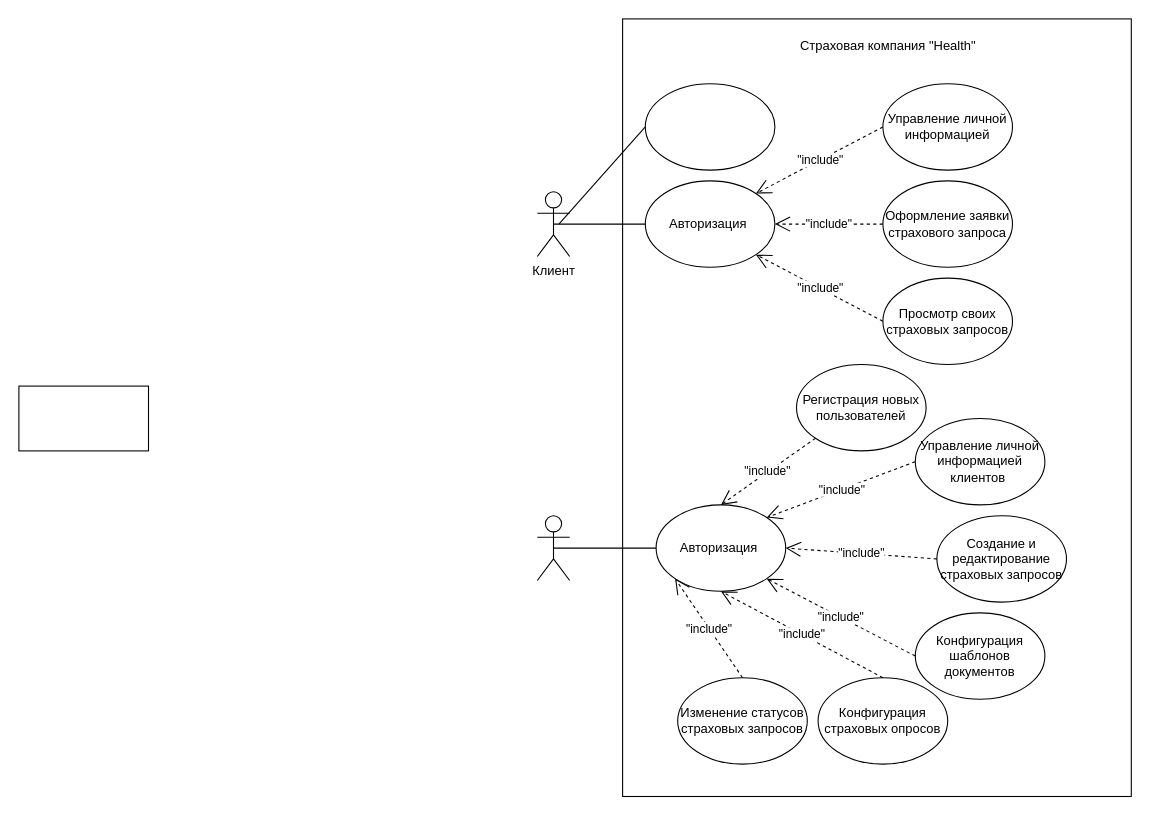
The diagram is 1150 pixels wide and 815 high, and some of its shapes have lost their labels. Each missing label, with the centre of its shape:
"Агент" belongs at pixel 553 547.
"Регистрация" belongs at pixel 709 126.
